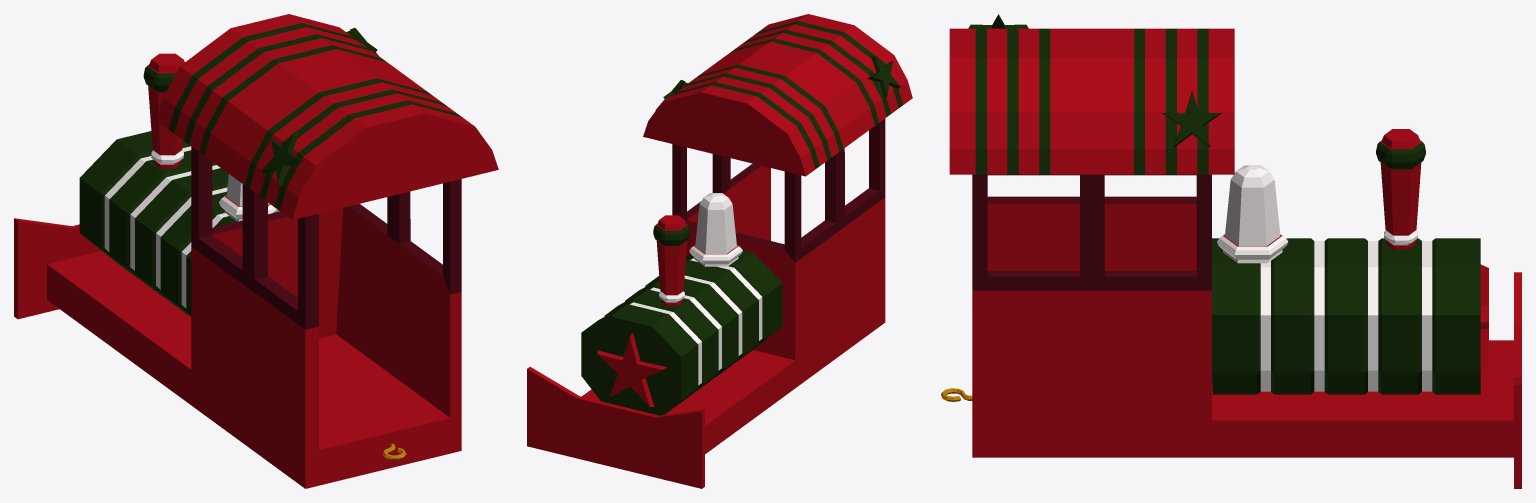
Rendered from Train_BigCar.obj.
3 renders of one model, left to right at view 1: azimuth 30°, elevation 25°; view 2: azimuth 150°, elevation 25°; view 3: azimuth 270°, elevation 25°, orthographic. The views are drawn at different scales.
Visible parts, largest first — view 1: Cylinder.002_Material.001, Cylinder.001_Material.001; view 2: Cylinder.002_Material.001, Cylinder.001_Material.001; view 3: Cylinder.002_Material.001, Cylinder.001_Material.001.
Part boxes in pixels (<box>): Cylinder.002_Material.001: <box>14,14,498,488</box>; Cylinder.001_Material.001: <box>261,28,378,187</box>; Cylinder.002_Material.001: <box>527,14,912,488</box>; Cylinder.001_Material.001: <box>597,55,900,406</box>; Cylinder.002_Material.001: <box>941,28,1521,488</box>; Cylinder.001_Material.001: <box>968,14,1488,370</box>.
Size of the model in its own units: 1.4 by 2.23 by 3.03.
